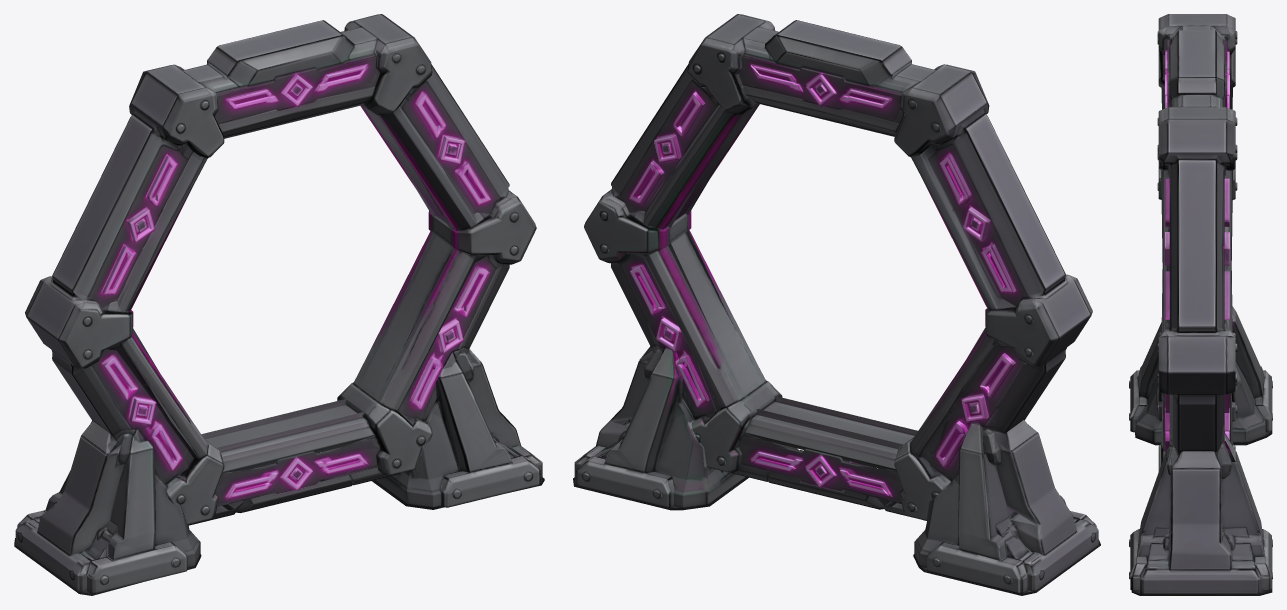
Rendered from Modle_Prop_Spawn.fbx.
3 views of the same model, side by side, from view 1: azimuth 30°, elevation 25°; view 2: azimuth 150°, elevation 25°; view 3: azimuth 270°, elevation 25° (orthographic). The views are drawn at different scales.
Visible parts, largest first — view 1: base.001; view 2: base.001; view 3: base.001.
Part boxes in pixels (<box>): base.001: <box>14,14,544,595</box>; base.001: <box>573,14,1100,595</box>; base.001: <box>1129,14,1272,595</box>.
Size of the model in its own units: 3.17 by 3.02 by 0.901.
